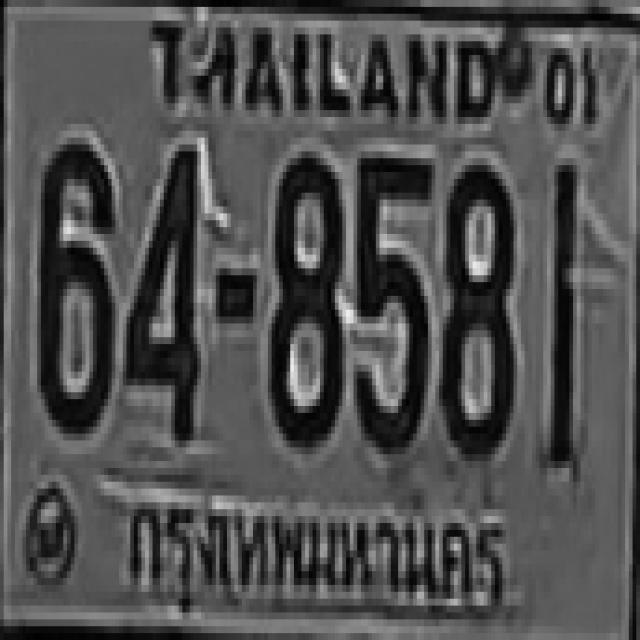1: (549, 158, 575, 461), (549, 162, 575, 464)
4: (125, 141, 199, 437)
5: (354, 152, 432, 448)
6: (37, 138, 112, 426)
8: (439, 158, 510, 454), (268, 152, 339, 440)
Bangkok: (119, 489, 513, 621)
